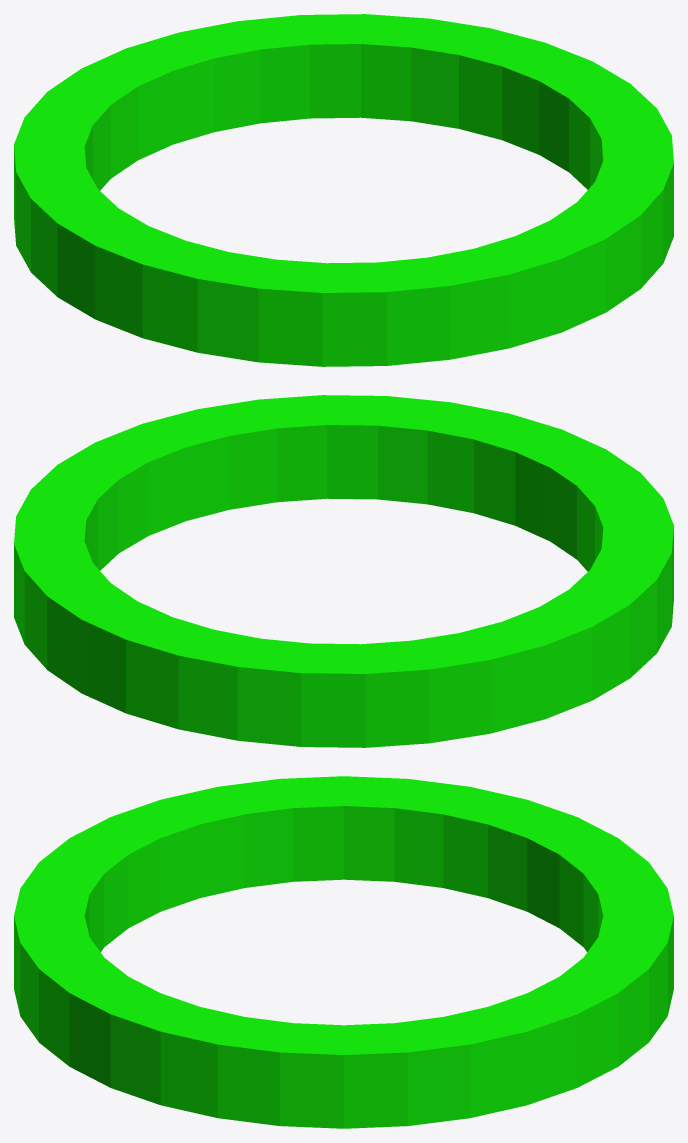
File: TeleportReticle.fbx
The picture shows the model from 3 angles, top to bottom: view 1: azimuth 30°, elevation 25°; view 2: azimuth 150°, elevation 25°; view 3: azimuth 270°, elevation 25°; orthographic projection.
Parts seen in each view (by area): view 1: Cylinder; view 2: Cylinder; view 3: Cylinder.
Part boxes in pixels (left/top/right/bottom): Cylinder: left=14, top=14, right=673, bottom=366; Cylinder: left=14, top=395, right=673, bottom=747; Cylinder: left=14, top=776, right=673, bottom=1128.
Size of the model in its own units: 200 by 24.64 by 200.
